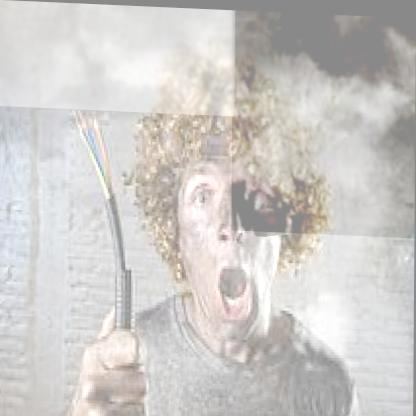smoke: (232, 8, 416, 235), (0, 0, 235, 114)
